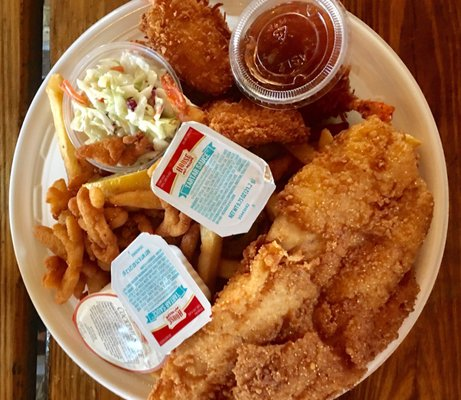pizza: (228, 1, 350, 110)
sushi: (57, 43, 205, 178)
